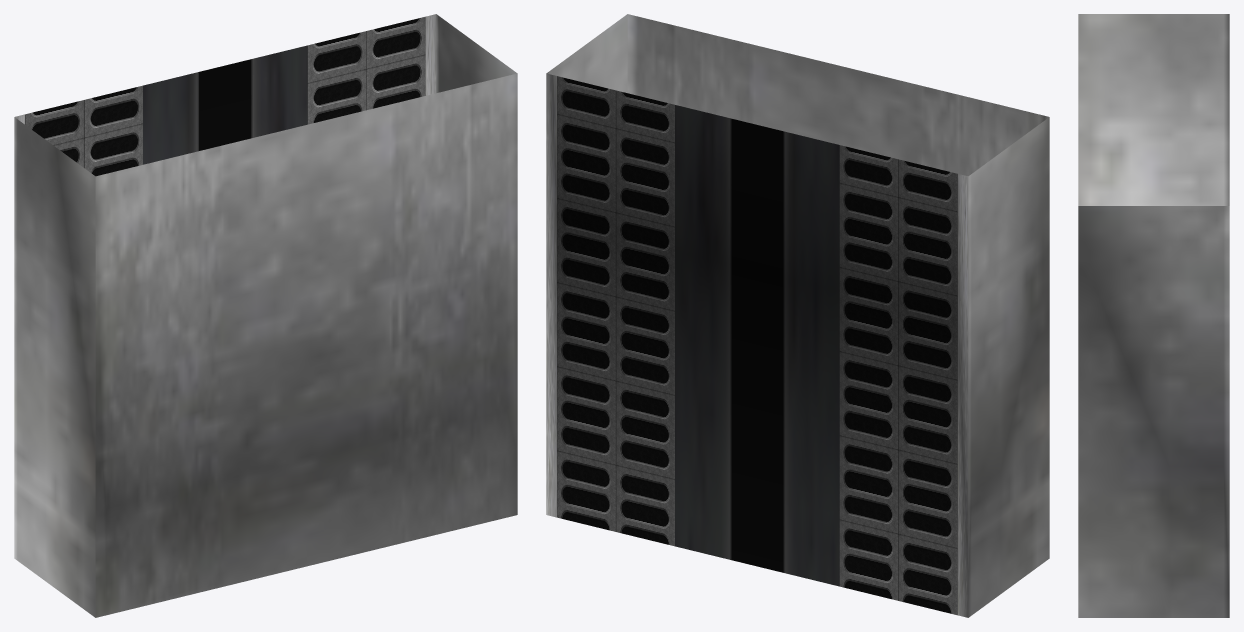
The model's file is tiles_door_arch_3.glb.
3 views of the same model, side by side, from view 1: azimuth 30°, elevation 25°; view 2: azimuth 150°, elevation 25°; view 3: azimuth 270°, elevation 25° (orthographic). The views are drawn at different scales.
Visible parts, largest first — view 1: Cube.005; view 2: Cube.005; view 3: Cube.005.
Part boxes in pixels (x1,y1,x2,y2): Cube.005: (14,14,517,617); Cube.005: (546,14,1049,617); Cube.005: (1078,14,1229,617).
Size of the model in its own units: 2 by 2 by 0.6667.
Materials: 3 (3 with a texture image).
